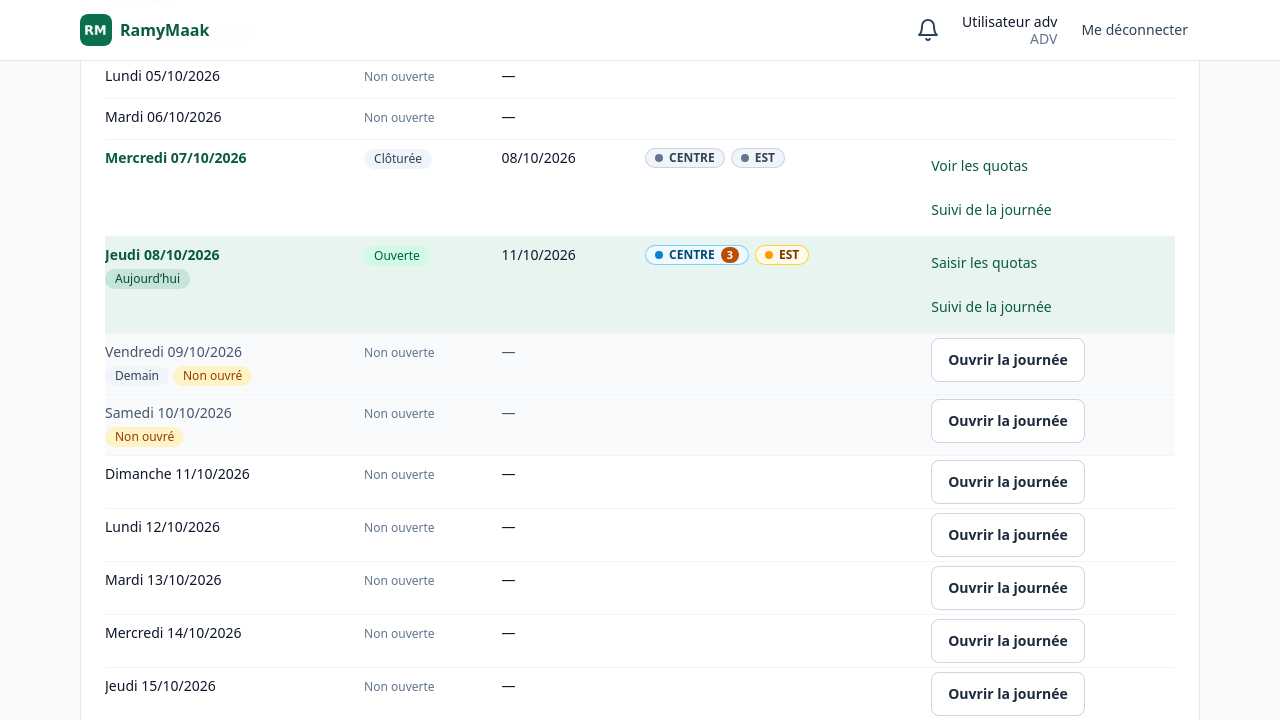
Test: ADV — calendar of business days (EF-ADV-01) › asks for a confirmation before opening a non-working day, and shows a refusal
(page scrolled)
Click the button with aria-label "Ouvrir la journée du vendredi 09/10/2026" at x=1008, y=360, box [931, 338, 1085, 382]
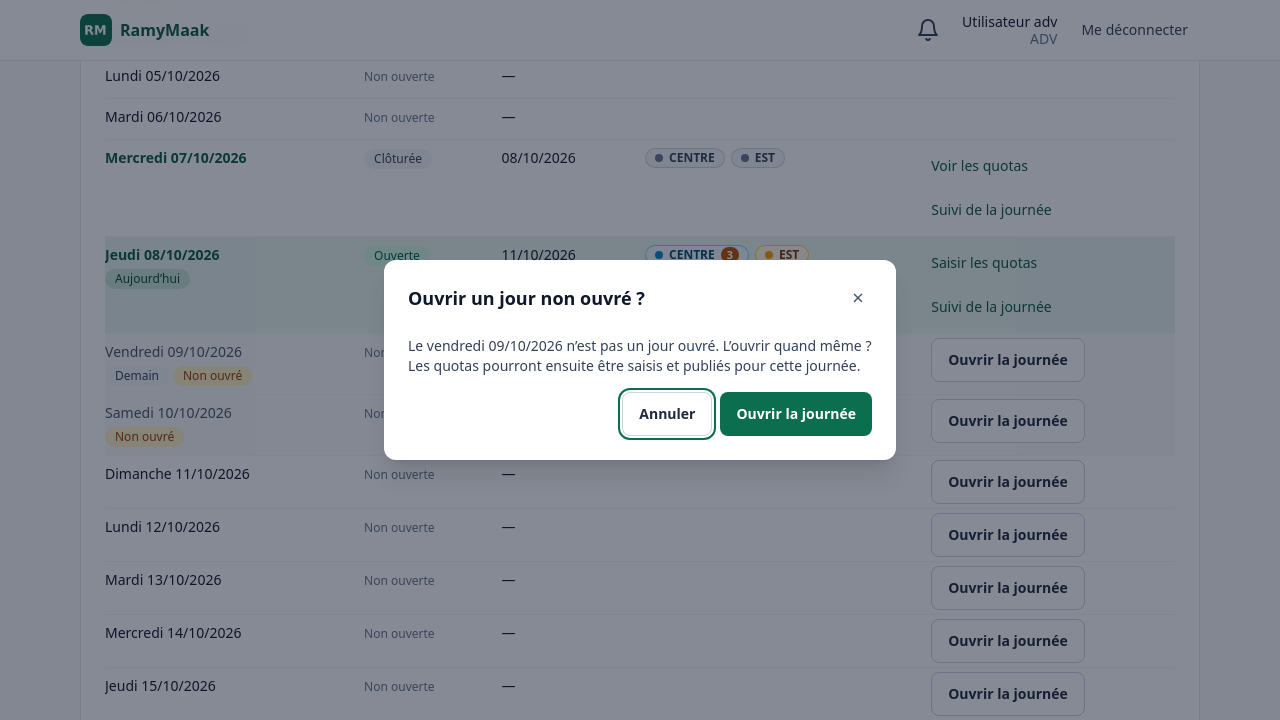
Check: the dialog "Ouvrir un jour non ouvré ?" shows "Le vendredi 09/10/2026 n’est pas un jour ouvré. L’ouvrir quand même ?", box [408, 336, 872, 375]
Click the button "Annuler" at x=667, y=414, box [622, 392, 712, 436]
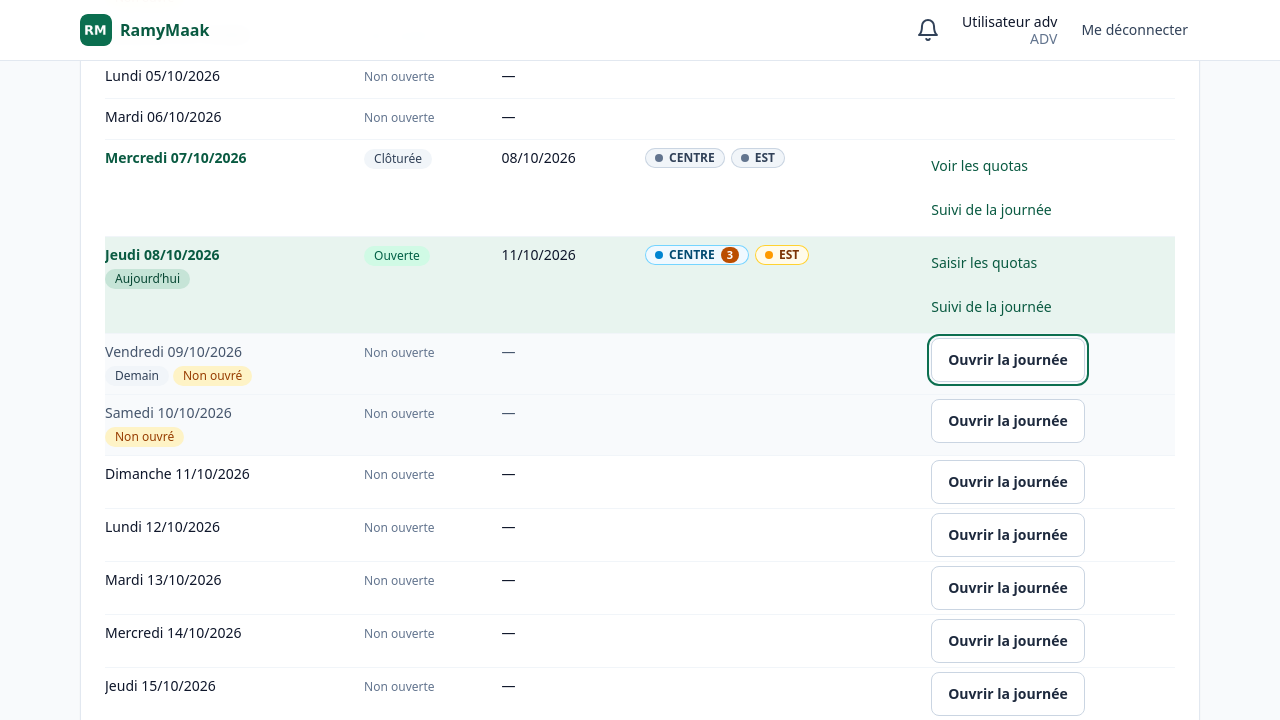
Check: the dialog is gone
Click the button with aria-label "Ouvrir la journée du vendredi 09/10/2026" at x=1008, y=360, box [931, 338, 1085, 382]
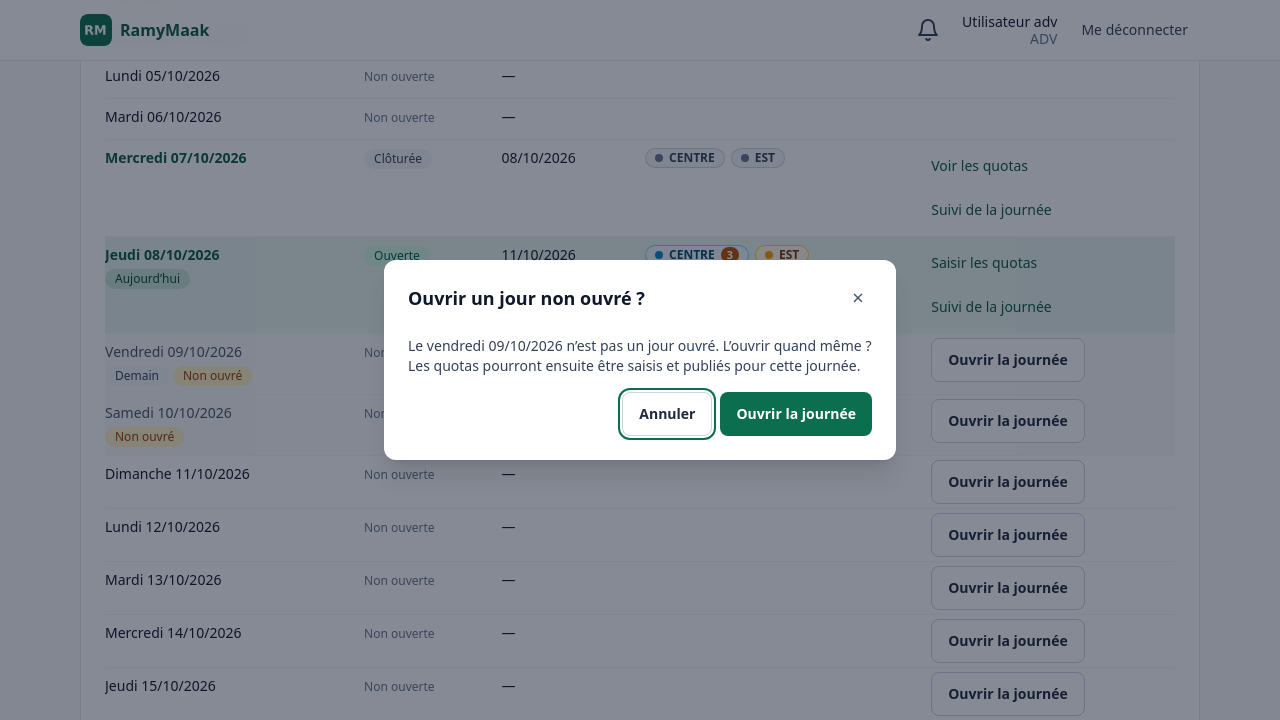
Click the button "Ouvrir la journée" at x=796, y=414, box [720, 392, 872, 436]
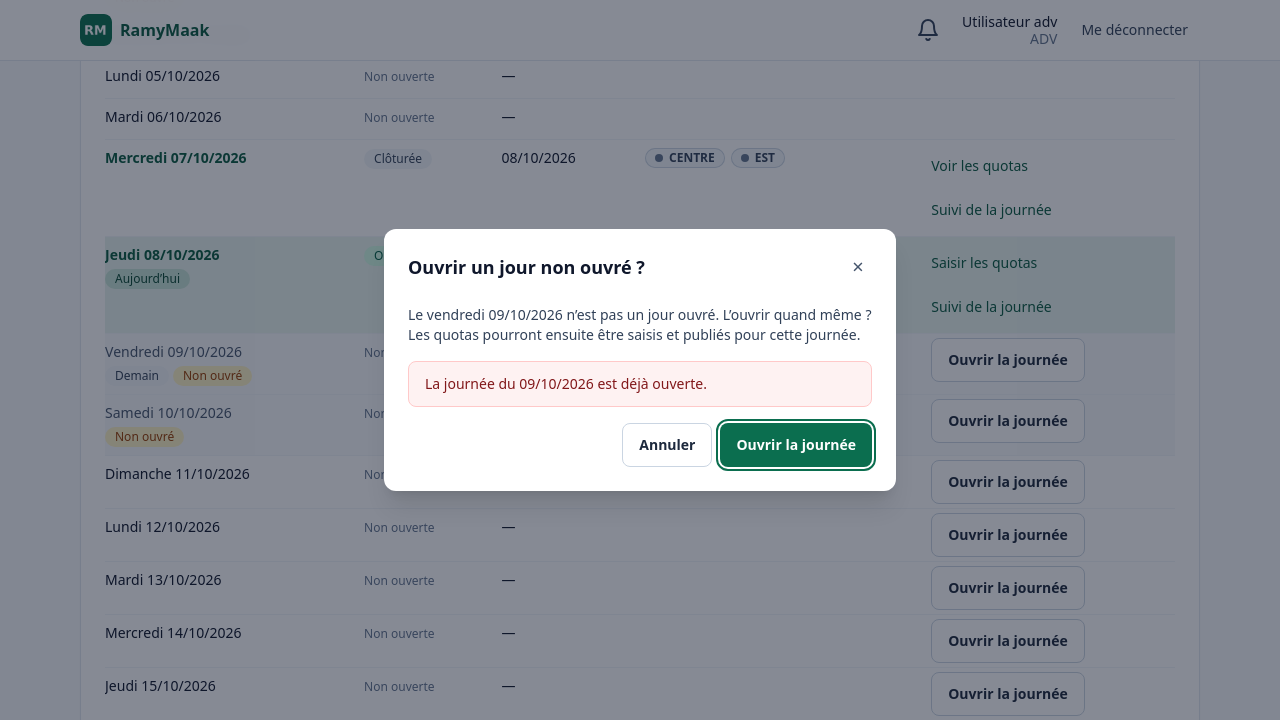
Check: the text "La journée du 09/10/2026 est déjà ouverte." is shown, box [408, 361, 872, 407]
Click the button "Ouvrir la journée" at x=796, y=445, box [720, 423, 872, 467]
(page scrolled)
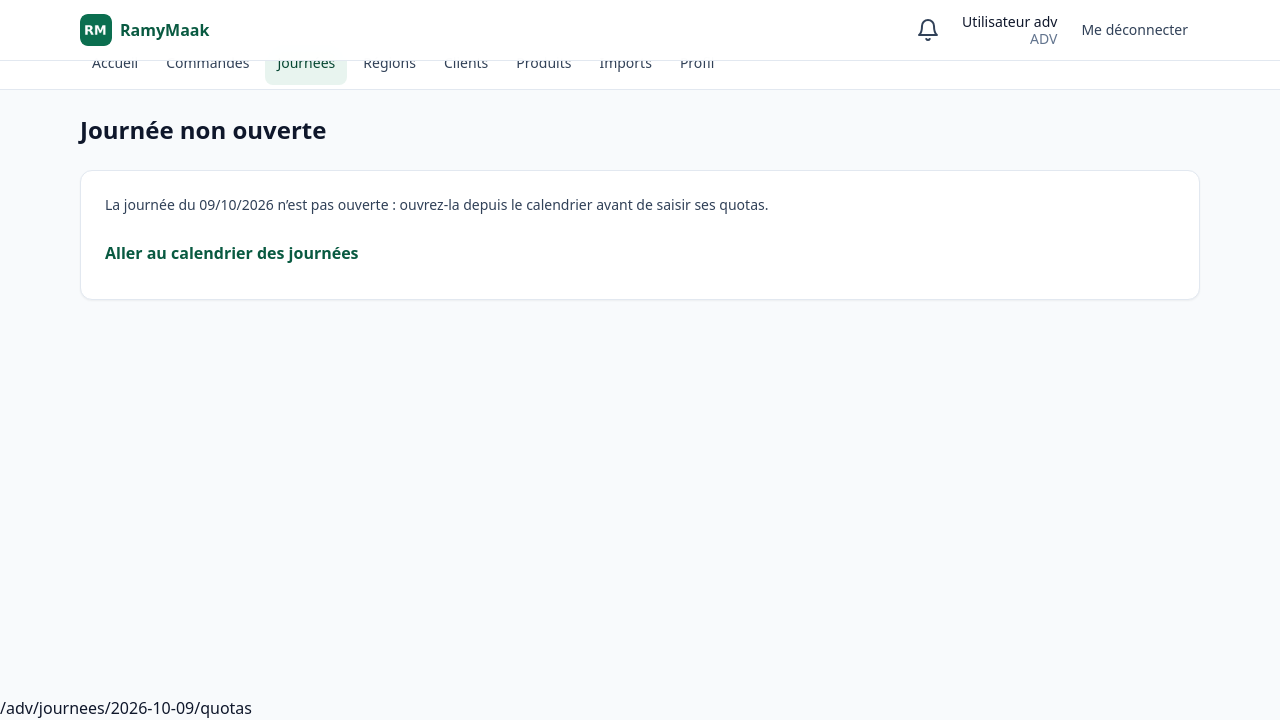
Check: the text with test id "location" reads "/adv/journees/2026-10-09/quotas", box [0, 697, 252, 719]
